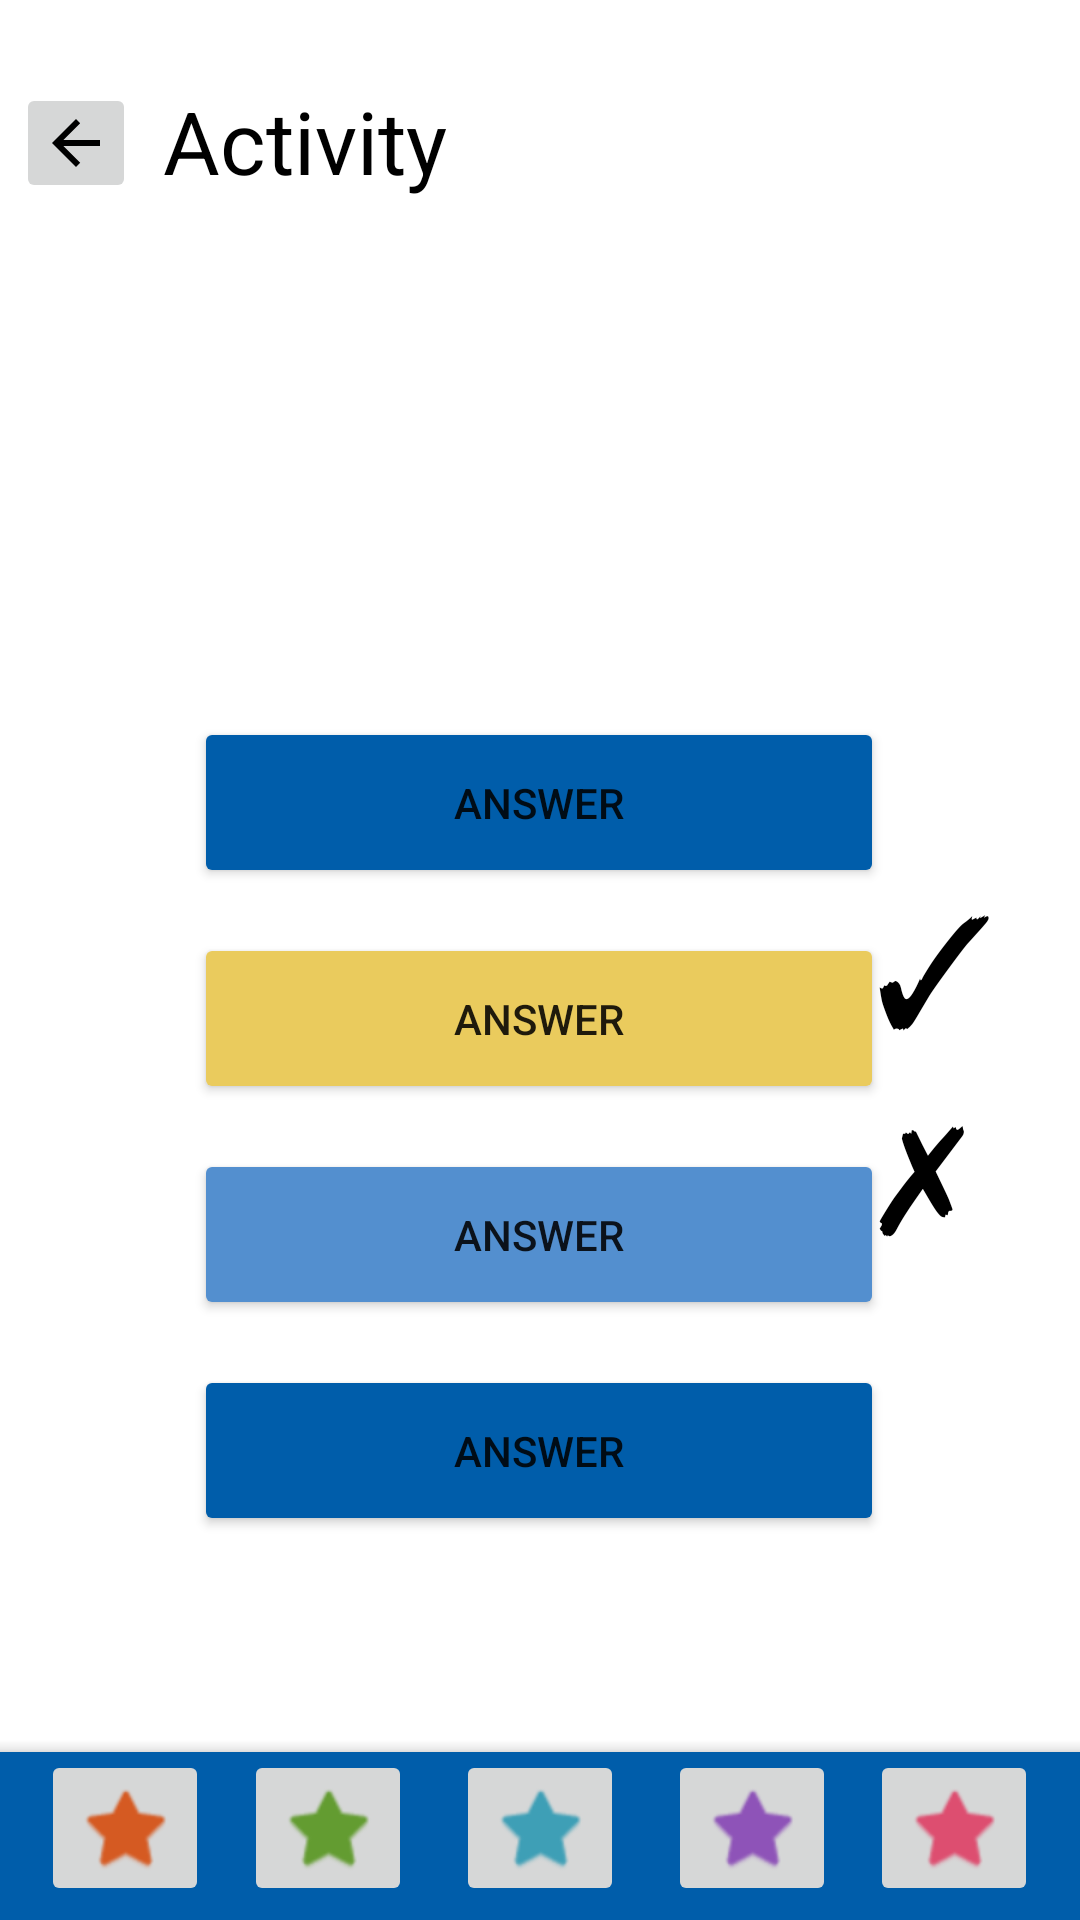

Point at icon controls on the screen. Image size 1080w x 1920h, points as [x,y].
star on: [125,1828], [328,1828], [540,1828], [752,1828], [954,1828]
